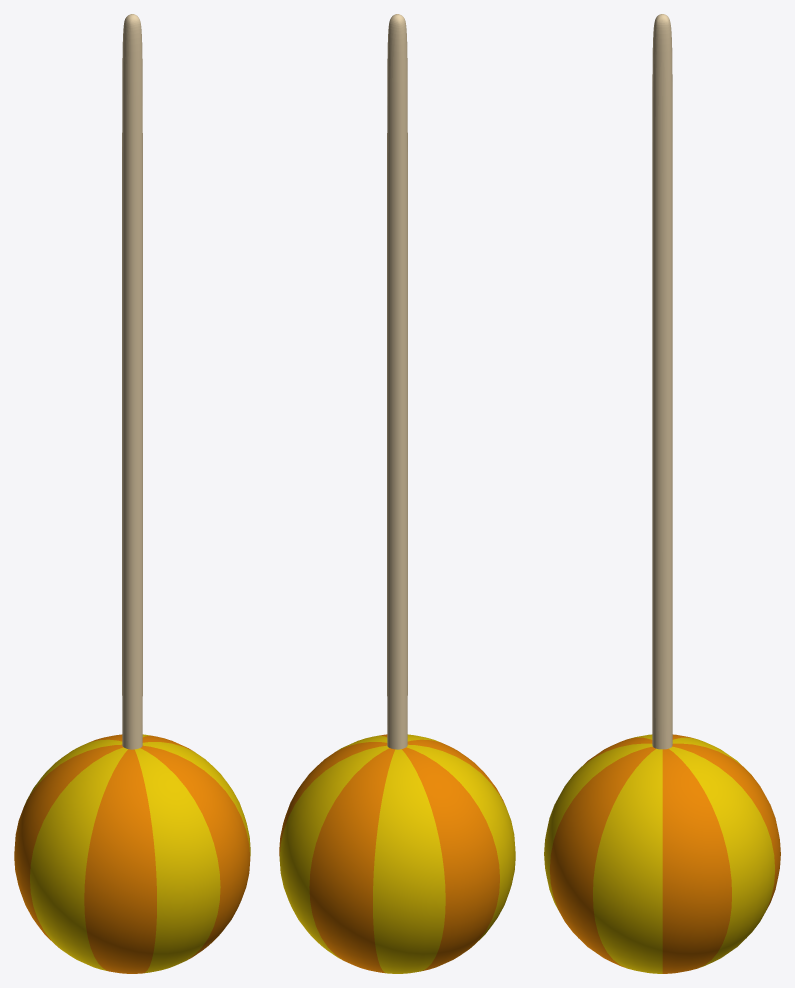
File: Pendulum.glb
3 views of the same model, side by side, from view 1: azimuth 30°, elevation 25°; view 2: azimuth 150°, elevation 25°; view 3: azimuth 270°, elevation 25° (orthographic).
Parts seen in each view (by area): view 1: 球.001, 球; view 2: 球.001, 球; view 3: 球.001, 球.
Boxes of the visible parts, x1,y1,x2,y2 form: 球.001: [14, 734, 250, 973]; 球: [122, 14, 142, 749]; 球.001: [279, 734, 515, 973]; 球: [387, 14, 407, 749]; 球.001: [544, 734, 780, 973]; 球: [652, 14, 672, 749].
Bounding box in the file's own units: 1.91 × 8.43 × 1.91.
